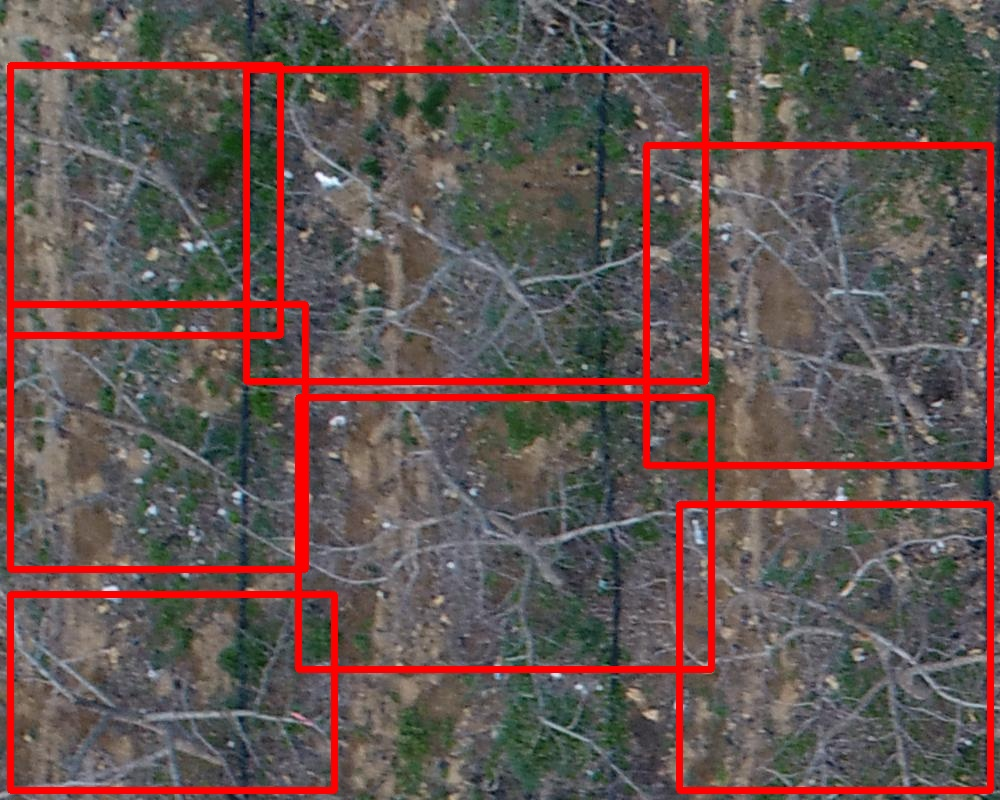apple: (246, 69, 705, 381), (298, 397, 711, 669), (646, 145, 990, 465), (679, 504, 990, 790), (10, 304, 305, 569), (10, 65, 280, 335), (10, 594, 334, 790)
